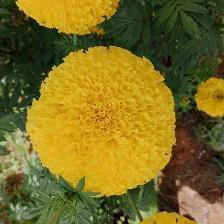marigold: (27, 44, 178, 198), (17, 1, 127, 39), (192, 77, 224, 118)
